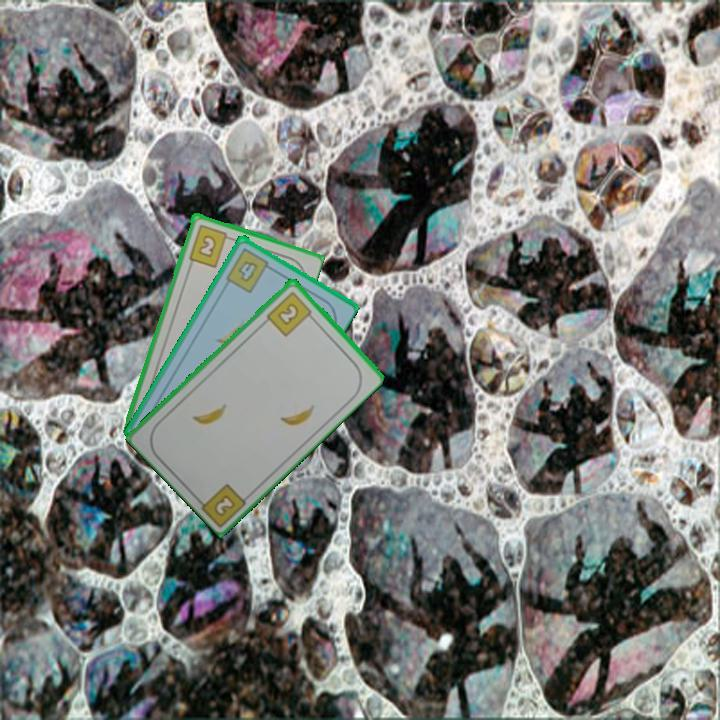2b: (263, 288, 317, 339), (185, 221, 235, 270), (210, 491, 238, 519)
4b: (222, 244, 276, 295)
